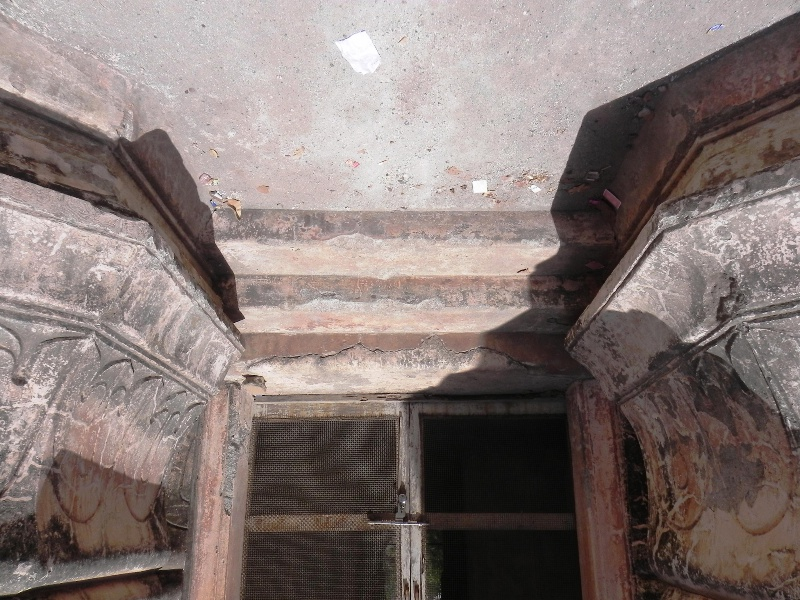Crack: (247, 337, 392, 365), (457, 337, 534, 371)
